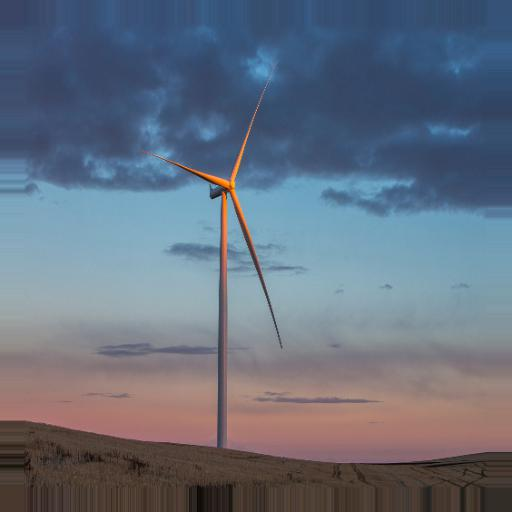wind turbine: (139, 59, 286, 443)
